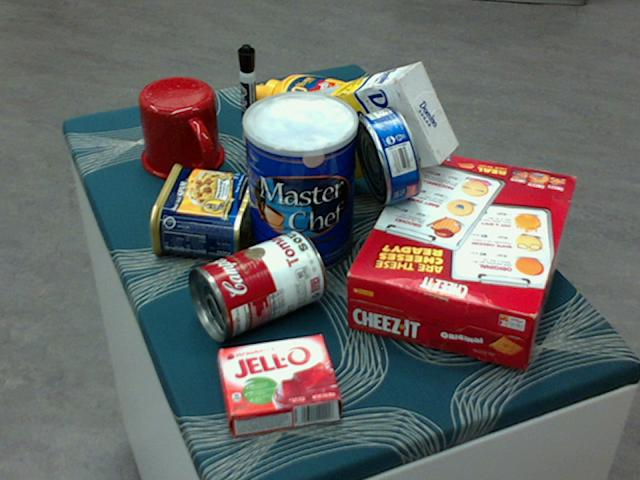cracker_box: (344, 149, 576, 368)
gelatin_box: (217, 333, 342, 435)
large_marker: (237, 43, 260, 147)
master_chef_can: (242, 92, 357, 277)
mug: (139, 76, 226, 180)
mustard_bottle: (249, 73, 416, 158)
potted_meat_can: (149, 163, 257, 258)
sugar_box: (275, 63, 458, 184)
tomato_soup_can: (186, 231, 325, 339)
tuna_fish_can: (354, 104, 422, 203)
